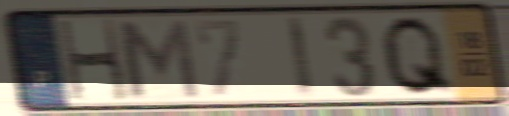3: (323, 12, 378, 101)
7: (192, 17, 245, 100)
H: (55, 16, 132, 104)
I: (282, 13, 317, 101)
M: (111, 16, 204, 101)
Q: (377, 12, 459, 98)
